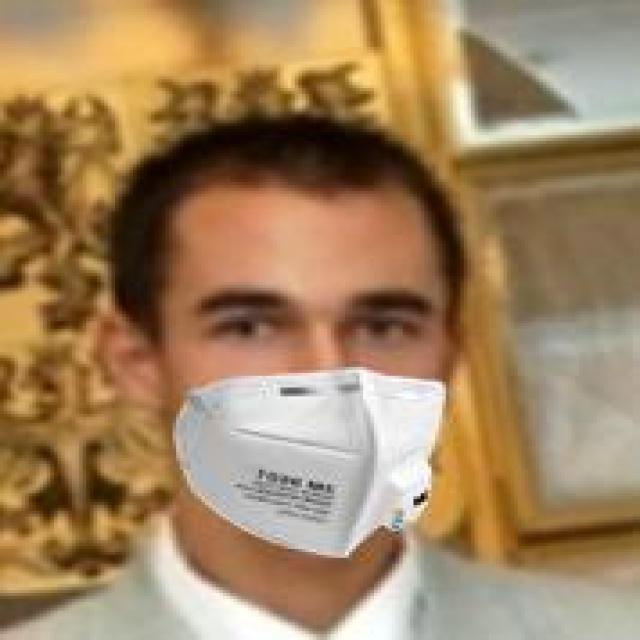mask: (108, 118, 532, 587)
